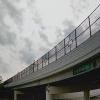Bridge: (5, 13, 98, 89)
